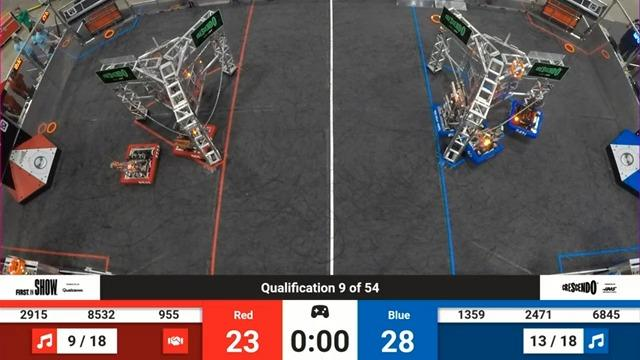robot: (105, 138, 163, 190), (458, 120, 507, 179), (431, 79, 475, 142), (501, 97, 548, 146), (170, 120, 216, 169), (172, 58, 214, 95)
